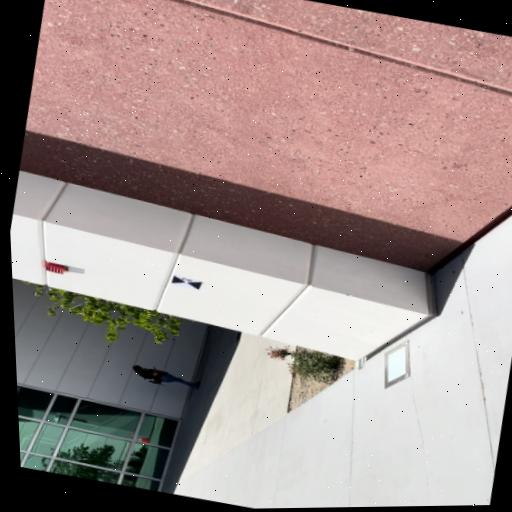target2: (171, 275, 203, 290)
